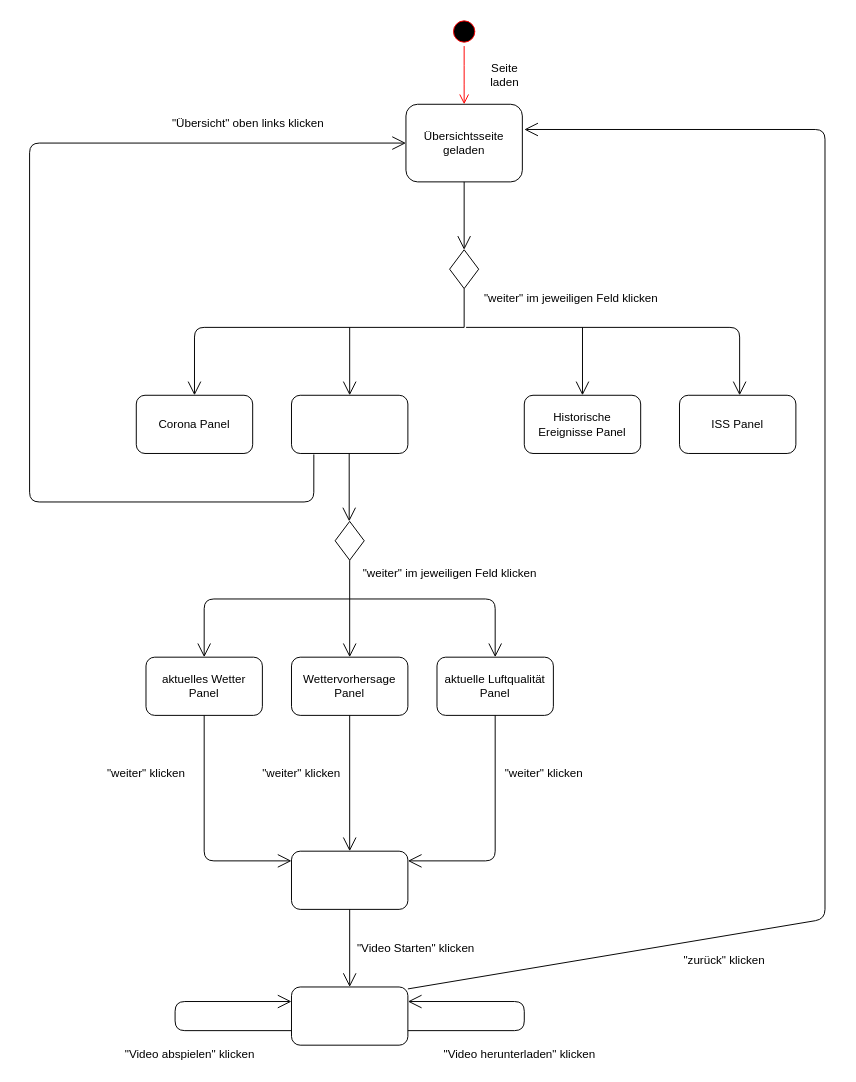
This 856x1082 diagram has some shape labels left out. Here are the shapes that lost their labels. From the top down, the centre of each, then its label:
At (x=349, y=423): "Wetter Panel".
At (x=349, y=879): "individueller Video Start Overlay".
At (x=349, y=1015): "Videoplayer geöffnet".
